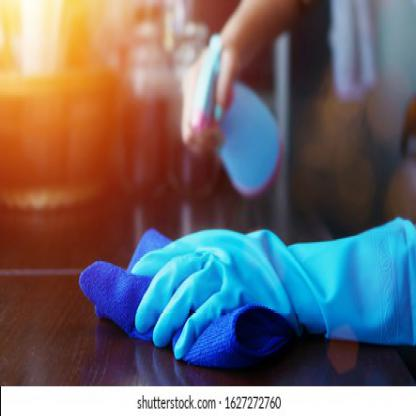with_gloves: (128, 214, 415, 365)
